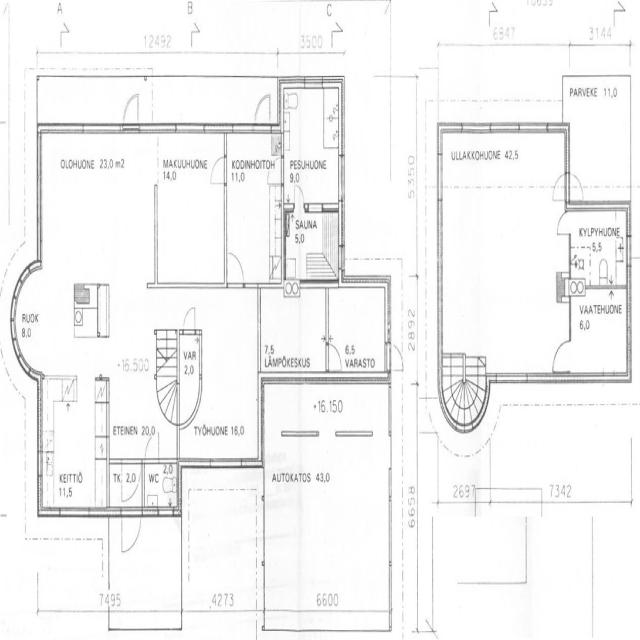door: (114, 506, 146, 558), (548, 169, 590, 207), (250, 87, 274, 138), (118, 452, 139, 508), (122, 86, 146, 134), (549, 331, 574, 374), (380, 334, 406, 374), (208, 147, 231, 190), (223, 242, 245, 285), (323, 338, 347, 374), (180, 305, 200, 344), (292, 174, 310, 216), (144, 428, 163, 463), (558, 207, 570, 238)
window: (624, 224, 637, 281), (338, 145, 347, 211), (302, 66, 326, 88), (339, 229, 348, 282), (140, 505, 161, 523)
zone: (444, 140, 564, 377), (37, 132, 155, 281), (155, 122, 226, 288), (40, 372, 110, 518), (179, 335, 258, 461), (226, 130, 286, 284), (254, 279, 332, 379), (278, 82, 338, 210), (324, 277, 389, 377), (568, 287, 629, 377), (566, 203, 628, 291), (280, 206, 339, 279), (180, 334, 202, 426), (137, 461, 173, 516)
